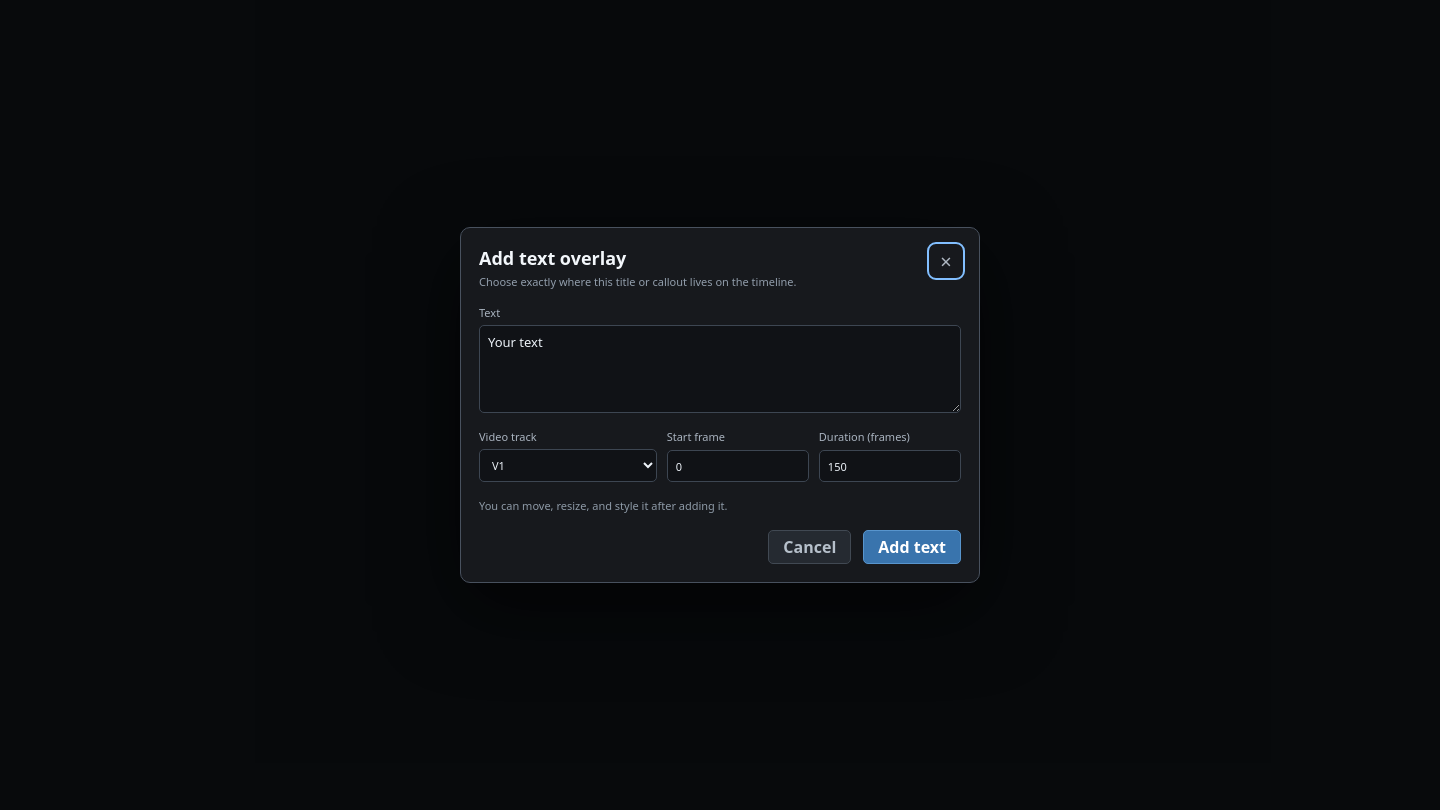
Test: text overlay editing UI › reports an overlapping range instead of silently moving it
Replace the text in the number field labelled "Start frame" with "30" at (738, 466), box [667,450,809,482]
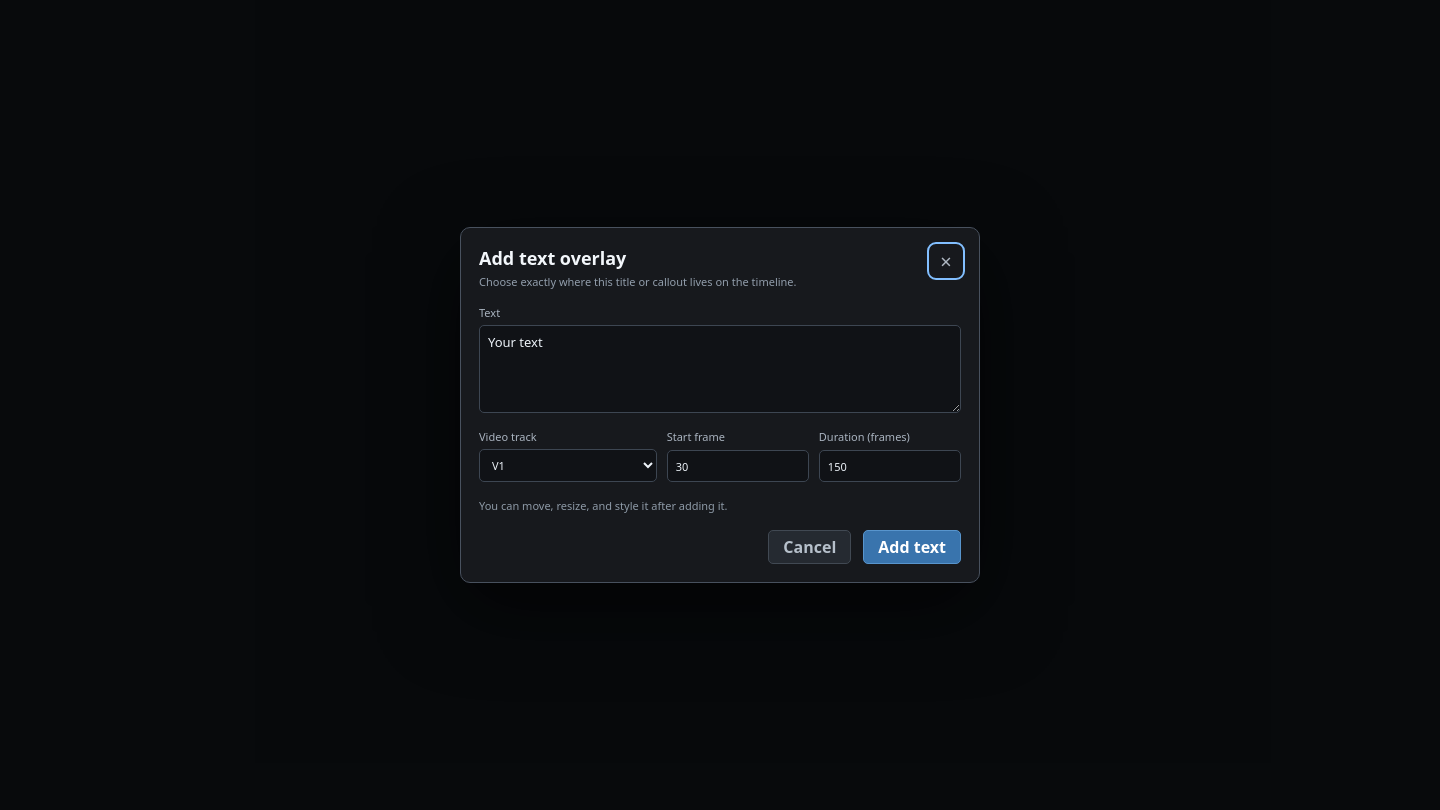
Click the button "Add text".
click(912, 547)  # box [863,530,961,564]
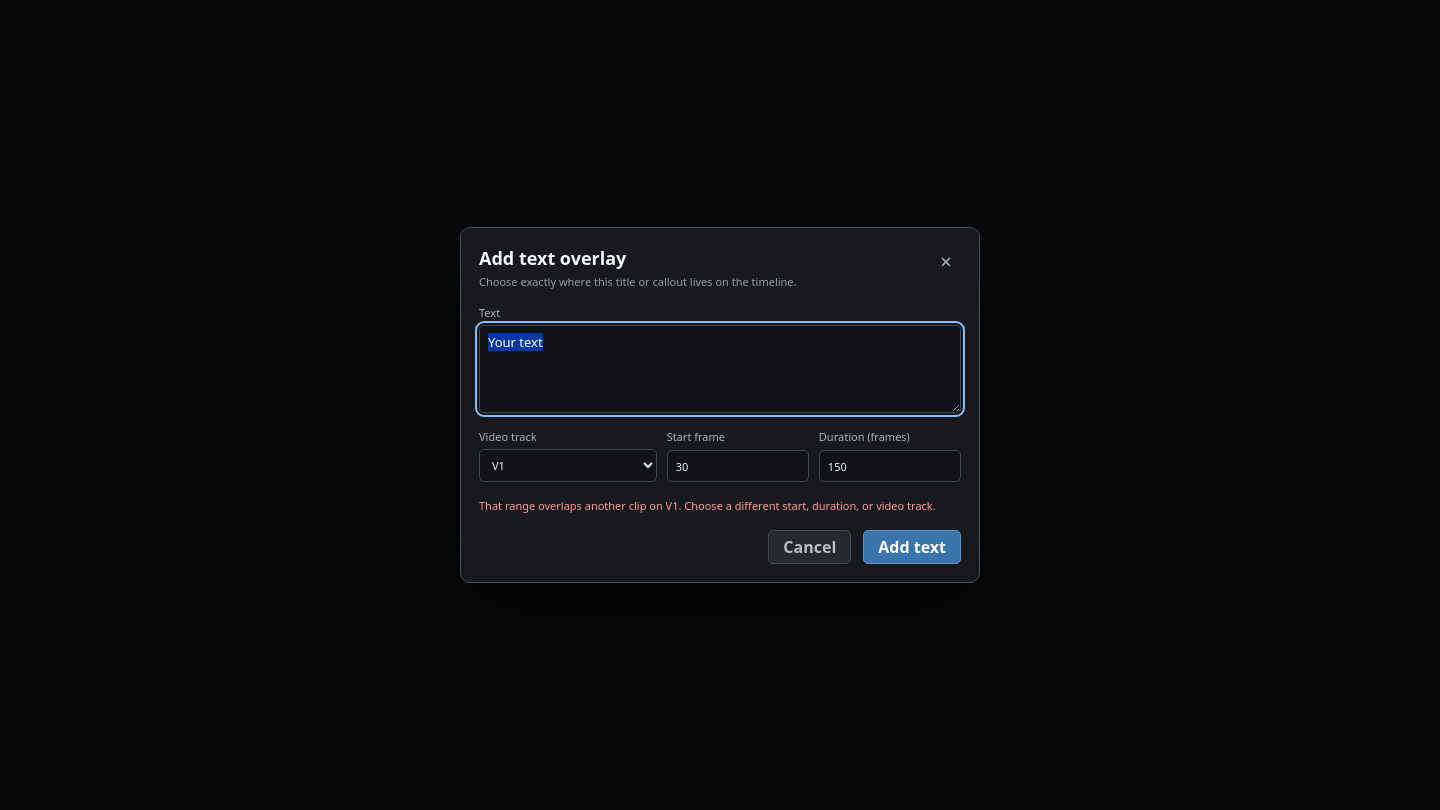
expect the message shows "overlaps another clip": met, box [479,498,936,513]
